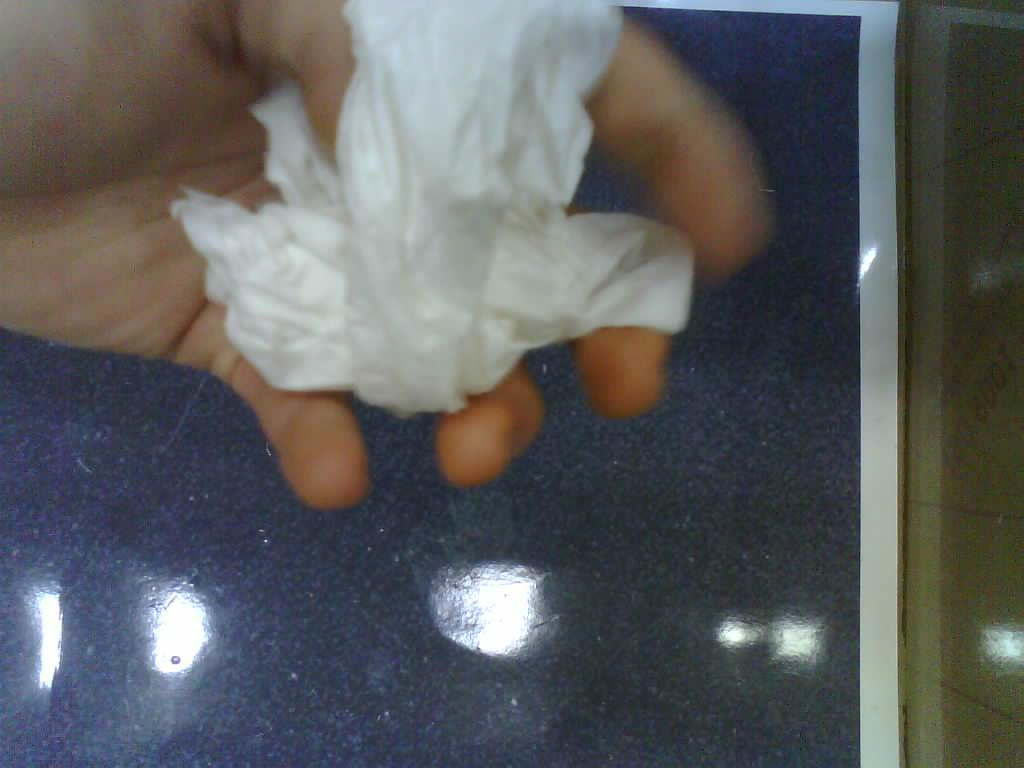paper: (172, 2, 694, 414)
